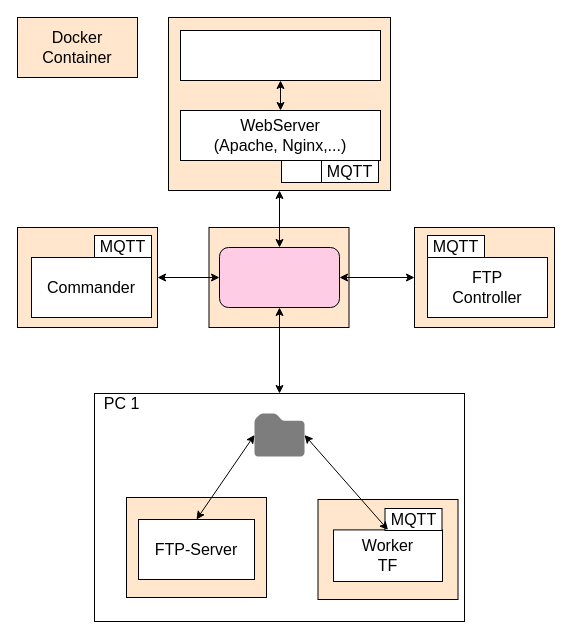
This 572x639 diagram has some shape labels left out. The centre of each missing label's shape, as x and y in pixels:
FTP: the point at 301,171
MQTT Broker: the point at 279,277
WebGUI (HTML, JS ...): the point at 280,55
